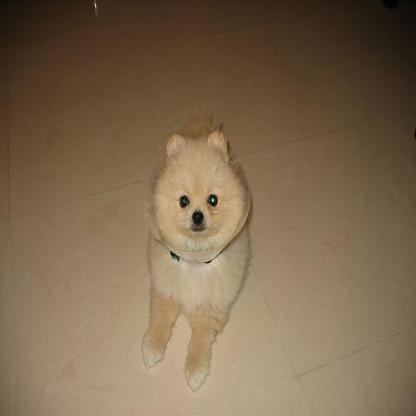Pomeranian: (141, 108, 252, 390)
